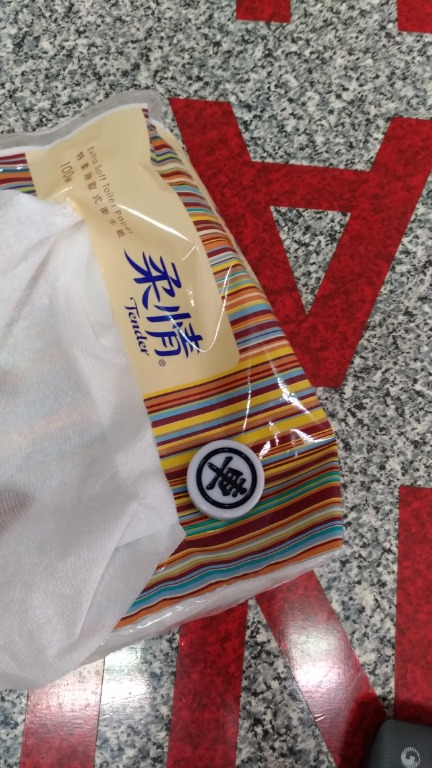b-king: (169, 430, 275, 525)
